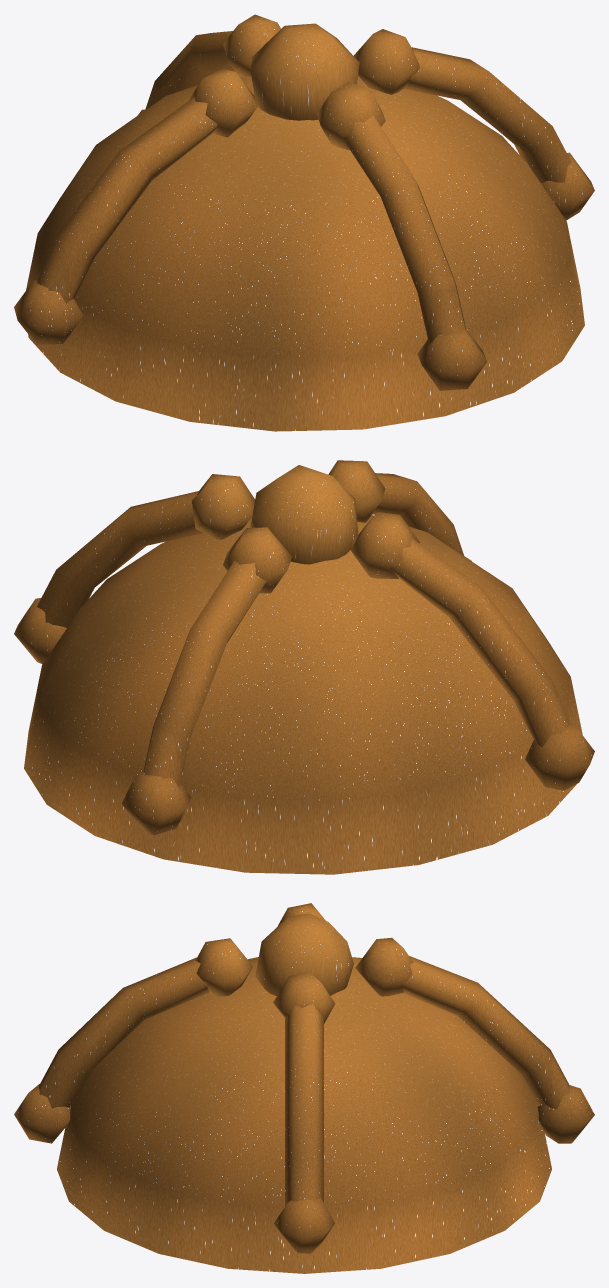
Rendered from pan_muerto.obj.
3 views of the same model, one above another, from view 1: azimuth 30°, elevation 25°; view 2: azimuth 150°, elevation 25°; view 3: azimuth 270°, elevation 25° (orthographic). The views are drawn at different scales.
Parts seen in each view (by area): view 1: pan_muerto; view 2: pan_muerto; view 3: pan_muerto.
Boxes of the visible parts, left/top/right/bottom form: pan_muerto: left=14, top=14, right=594, bottom=431; pan_muerto: left=14, top=460, right=594, bottom=874; pan_muerto: left=14, top=903, right=594, bottom=1273.
Bounding box in the file's own units: 0.1643 × 0.078 × 0.1642.
1 material, 1 textured.
